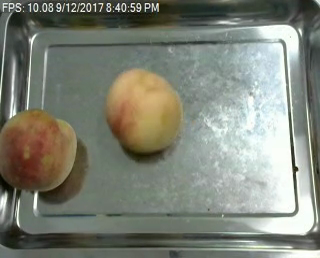Peach: (104, 68, 183, 154), (0, 108, 78, 193)
